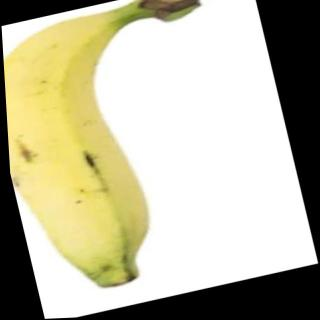banana: (0, 1, 180, 308)
